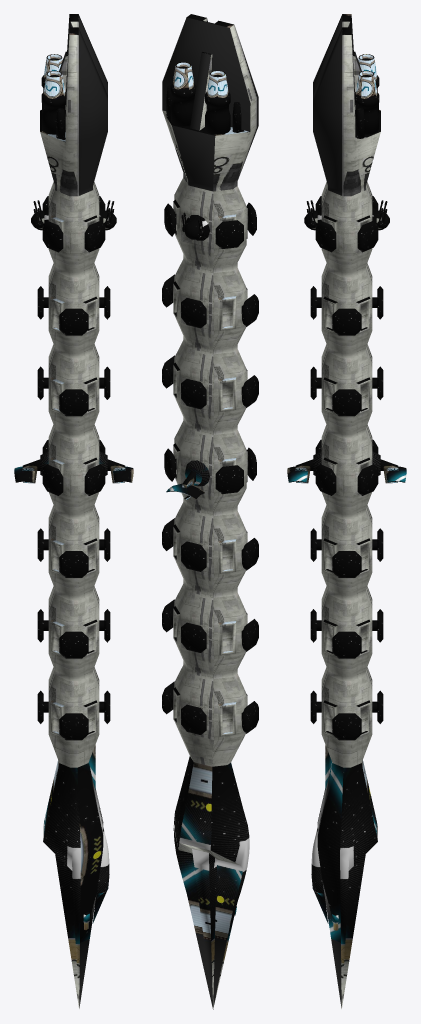
File: stealthshipout.obj
3 renders of one model, left to right at view 1: azimuth 90°, elevation 25°; view 2: azimuth 150°, elevation 25°; view 3: azimuth 270°, elevation 25°, orthographic.
Parts seen in each view (by area): view 1: rdmobj00; view 2: rdmobj00; view 3: rdmobj00.
Part boxes in pixels (box(x1,y1,x2,y2)): rdmobj00: box(14, 14, 133, 1008); rdmobj00: box(162, 14, 258, 1009); rdmobj00: box(287, 14, 406, 1008).
Bounding box in the file's own units: 181 × 1946 × 214.
